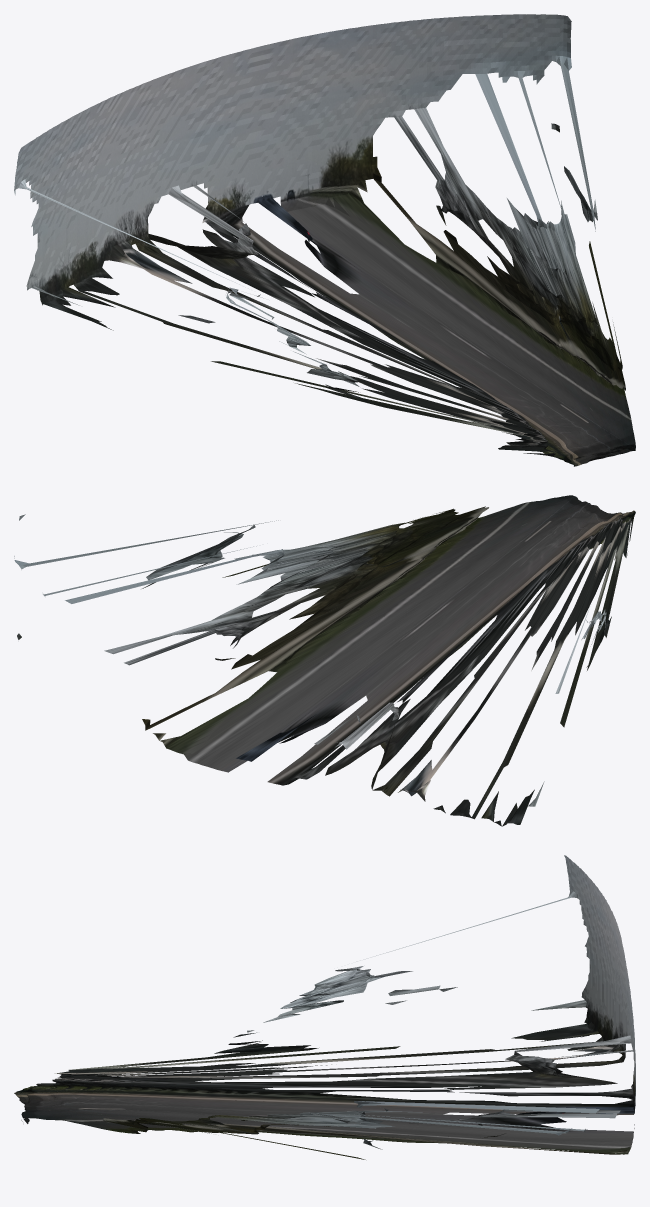
3 renders of one model, top to bottom at view 1: azimuth 30°, elevation 25°; view 2: azimuth 150°, elevation 25°; view 3: azimuth 270°, elevation 25°, orthographic. The views are drawn at different scales.
Visible parts, largest first — view 1: defaultobject; view 2: defaultobject; view 3: defaultobject.
Boxes of the visible parts, bbox=[...] form: defaultobject: bbox=[14, 14, 635, 466]; defaultobject: bbox=[14, 495, 635, 826]; defaultobject: bbox=[14, 855, 635, 1159].
Size of the model in its own units: 40.78 by 13.41 by 44.78.
1 material, 1 textured.
